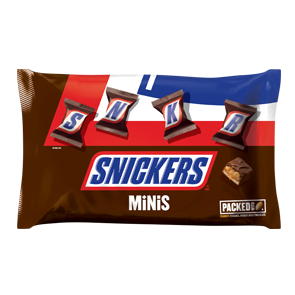snickers: (88, 156, 207, 184), (88, 157, 207, 184)
